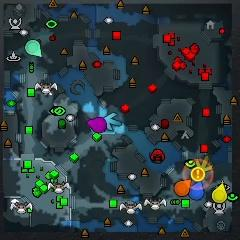Other: (191, 167, 205, 181)
p1: (188, 180, 204, 200)
p2: (25, 40, 42, 57)
p3: (85, 117, 107, 133)
p4: (212, 182, 227, 202)
p5: (174, 179, 192, 197)
x2: (196, 155, 212, 171)
x3: (103, 113, 122, 130)
